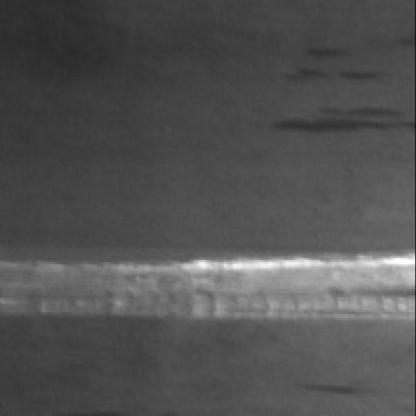inclusion: (266, 106, 400, 142), (276, 48, 380, 87), (300, 376, 370, 404)
scratches: (0, 260, 412, 331)
